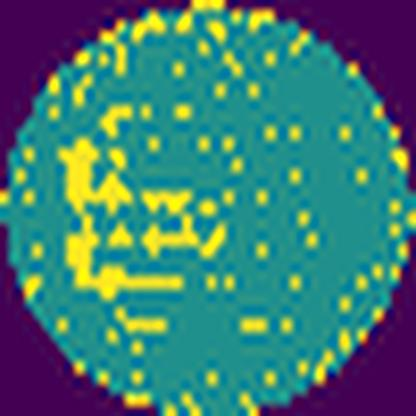Loc: (57, 136, 190, 294), (140, 184, 233, 260)
